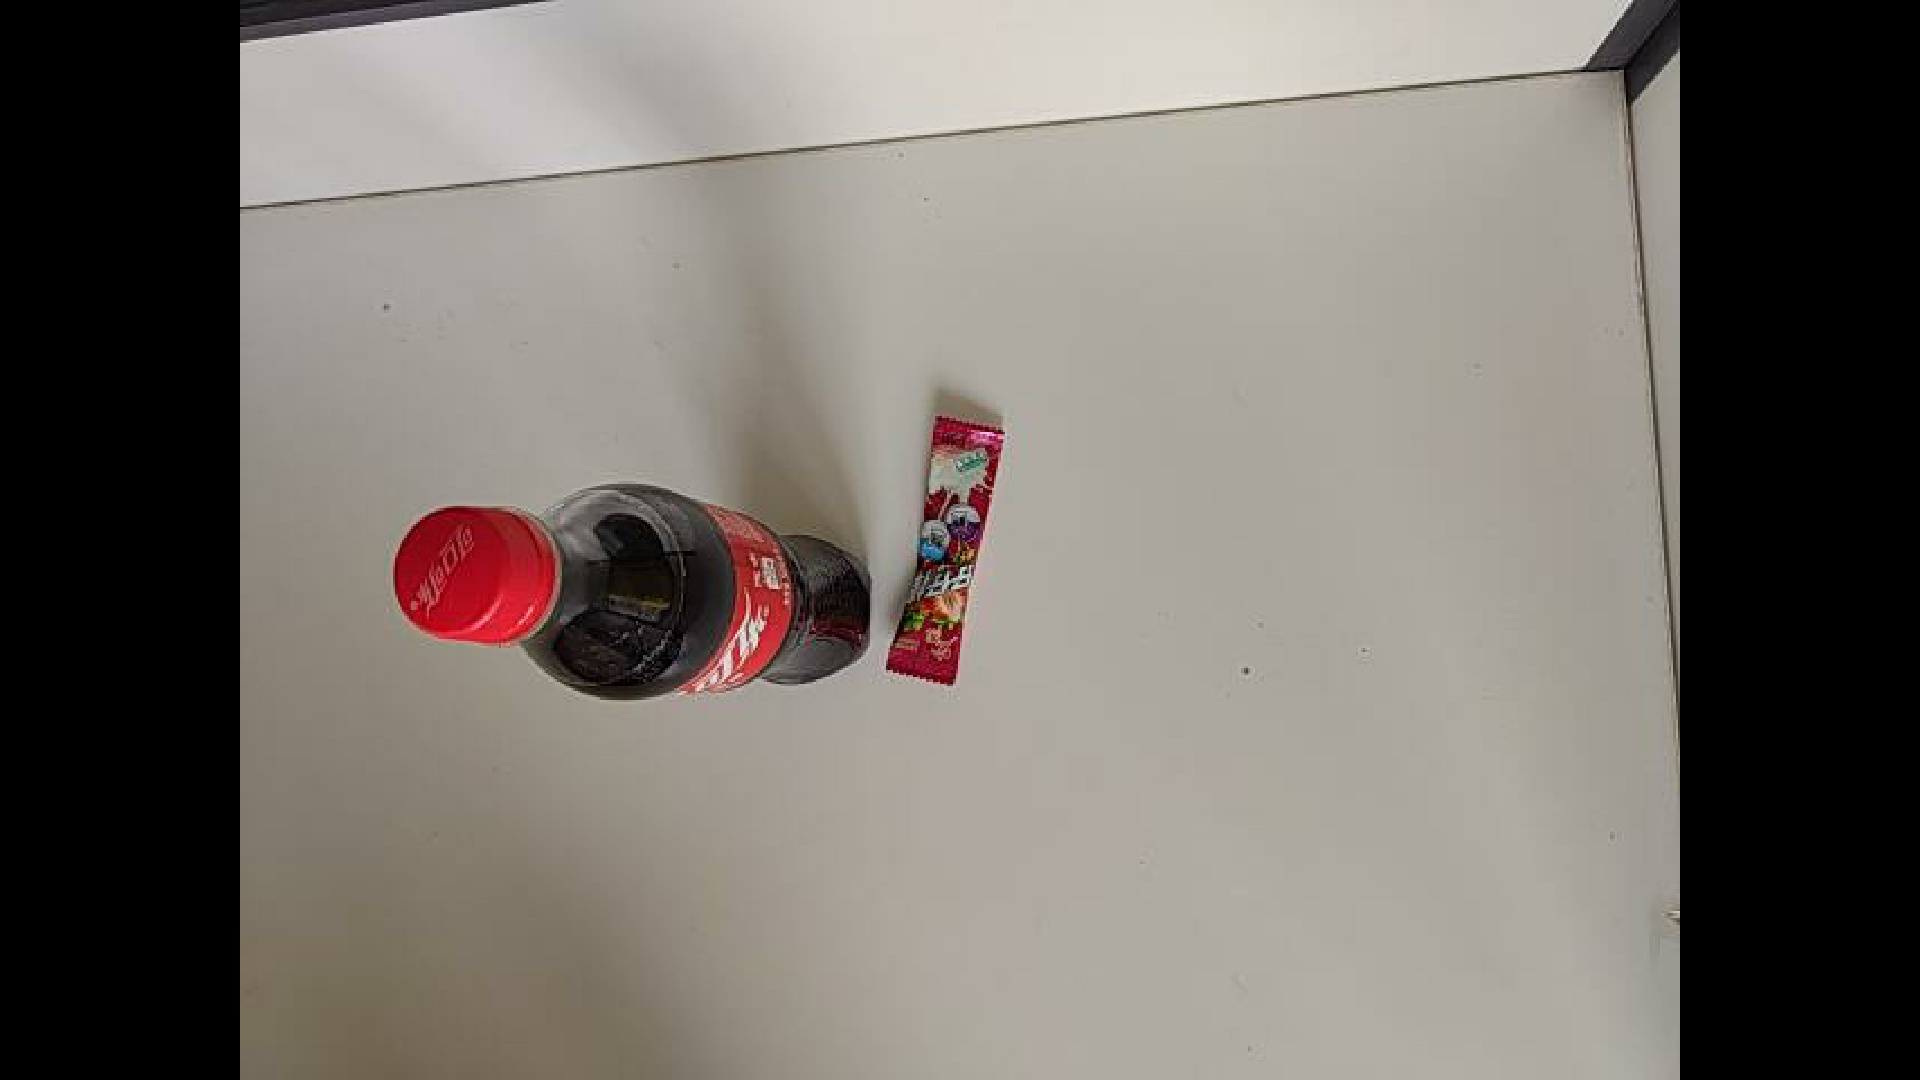cola: (390, 481, 873, 702)
sugar: (844, 410, 1009, 682)
